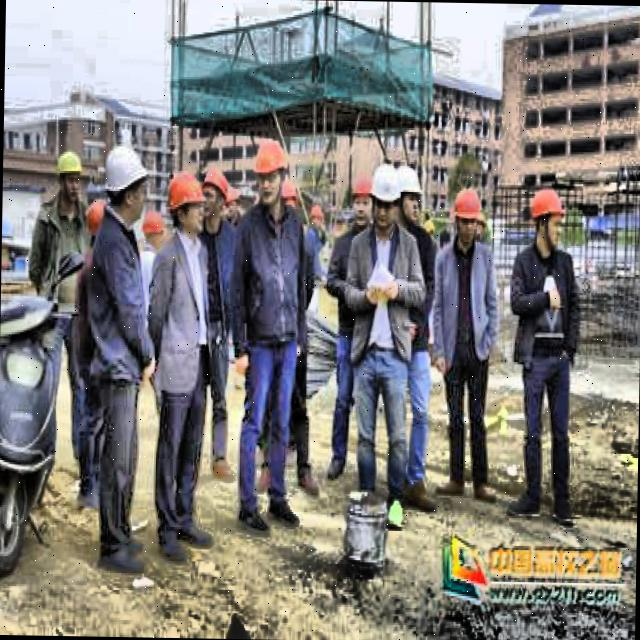helmet: (104, 141, 151, 223), (526, 183, 567, 256), (166, 170, 206, 237), (252, 136, 288, 210), (370, 160, 400, 232), (395, 162, 425, 228), (454, 186, 484, 250), (56, 149, 87, 205), (348, 171, 376, 233), (202, 162, 229, 226), (85, 196, 113, 252), (138, 208, 167, 253)
